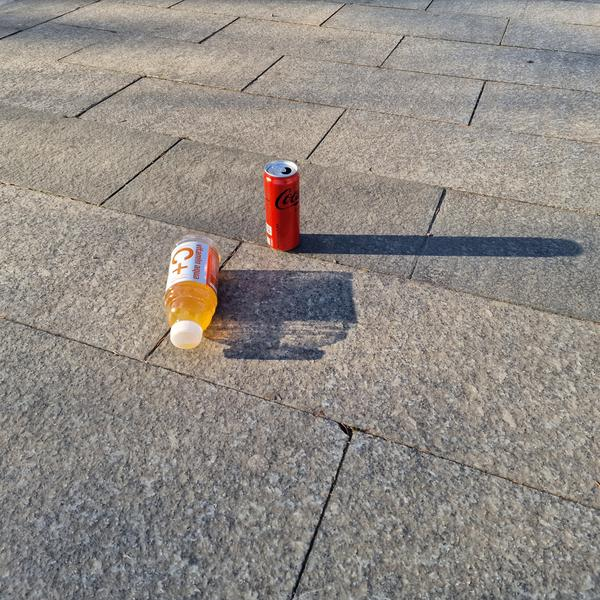can: (264, 159, 300, 251)
plastic_bottle: (158, 231, 225, 353)
